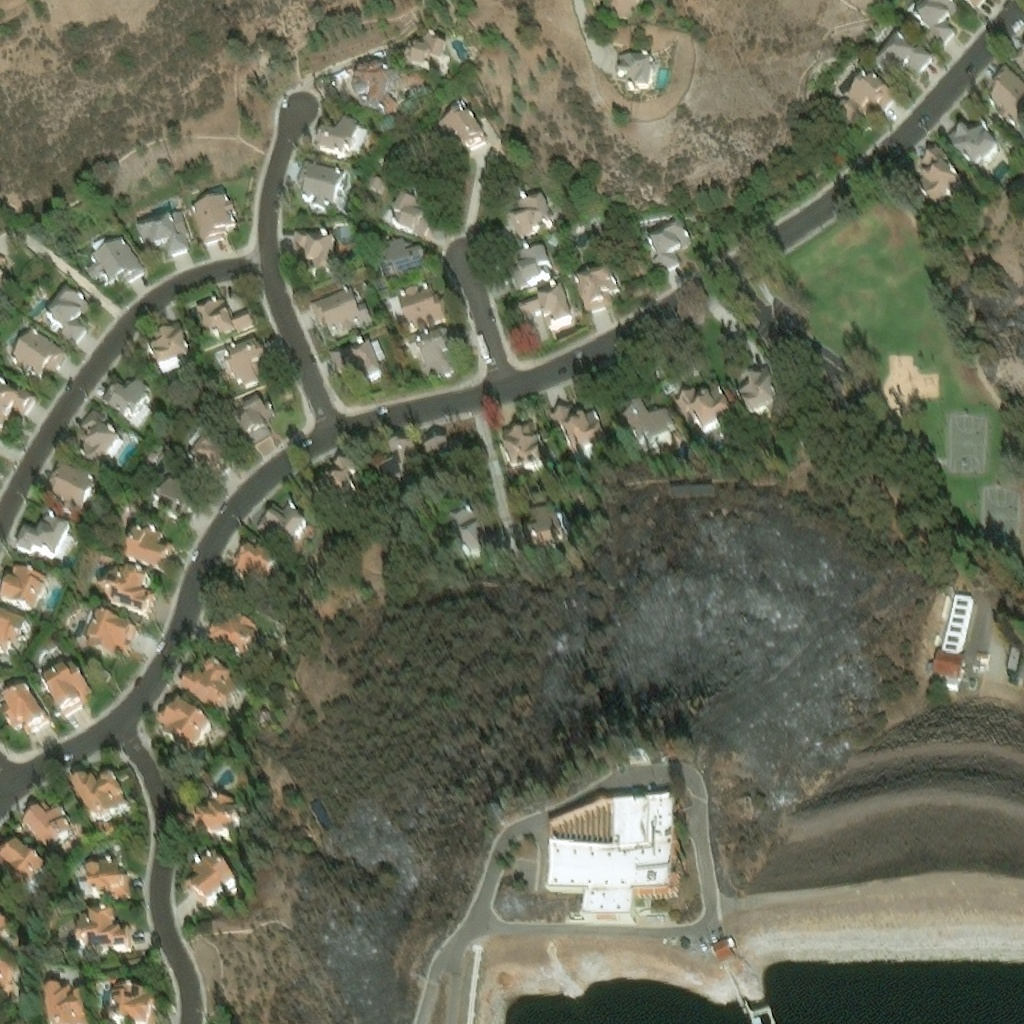0 no-damage: (545, 792, 682, 919), (67, 770, 128, 833), (833, 77, 898, 129), (307, 286, 373, 337), (388, 283, 449, 334), (450, 511, 506, 566), (83, 231, 144, 281), (75, 408, 124, 470), (432, 97, 487, 152), (48, 458, 100, 516), (19, 800, 77, 852), (371, 436, 425, 491), (10, 326, 69, 376), (14, 514, 74, 563), (404, 327, 457, 382), (180, 656, 237, 707), (673, 385, 734, 432), (213, 335, 266, 389), (156, 696, 210, 749), (99, 563, 154, 615), (520, 495, 572, 550), (133, 204, 190, 254), (919, 143, 963, 207), (188, 179, 234, 240), (648, 218, 693, 278), (550, 402, 606, 450), (100, 379, 152, 430), (622, 401, 676, 450), (352, 61, 400, 116), (81, 609, 136, 657), (45, 283, 88, 344), (44, 659, 93, 712), (296, 157, 344, 211), (194, 295, 254, 338), (517, 284, 574, 329), (945, 119, 998, 167), (374, 236, 429, 282), (183, 847, 232, 898), (874, 37, 933, 79), (329, 339, 384, 384), (380, 193, 433, 239), (145, 321, 191, 374), (738, 365, 783, 419), (231, 537, 280, 586), (206, 608, 256, 656), (0, 840, 46, 892), (75, 907, 129, 951), (314, 114, 370, 156), (500, 424, 544, 477), (310, 459, 358, 507), (0, 566, 47, 614), (0, 686, 49, 732), (78, 855, 130, 898), (576, 267, 620, 317), (507, 245, 553, 292), (257, 501, 306, 545), (916, 0, 959, 50), (509, 190, 552, 240), (990, 65, 1023, 129), (232, 394, 273, 445), (125, 525, 173, 568), (941, 594, 974, 654), (292, 226, 335, 272), (402, 27, 445, 71), (192, 789, 237, 831), (154, 476, 194, 522), (109, 985, 156, 1023), (45, 985, 88, 1023), (617, 54, 654, 97), (189, 432, 227, 473), (930, 650, 968, 689), (419, 433, 456, 465), (594, 0, 643, 22), (0, 917, 19, 950), (713, 942, 737, 967), (330, 222, 349, 239), (1012, 46, 1023, 70), (367, 175, 384, 190), (964, 0, 988, 10)
